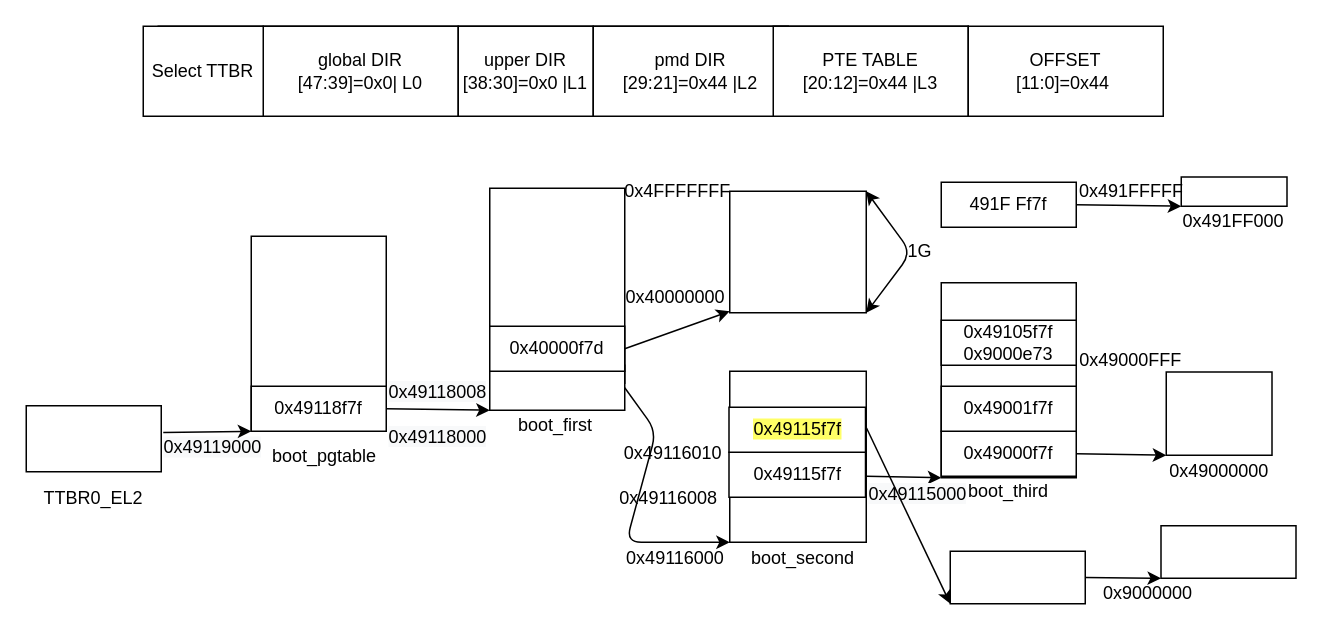
The diagram is 1323 pixels wide and 642 high, and some of its shapes have lost their labels. Here are the shapes that lost their labels. From the top down, the centre of each, then its label:
(556,387): 0x49116f7f
(93,438): 0x49119f7f
(1017,577): 0x9000e73
